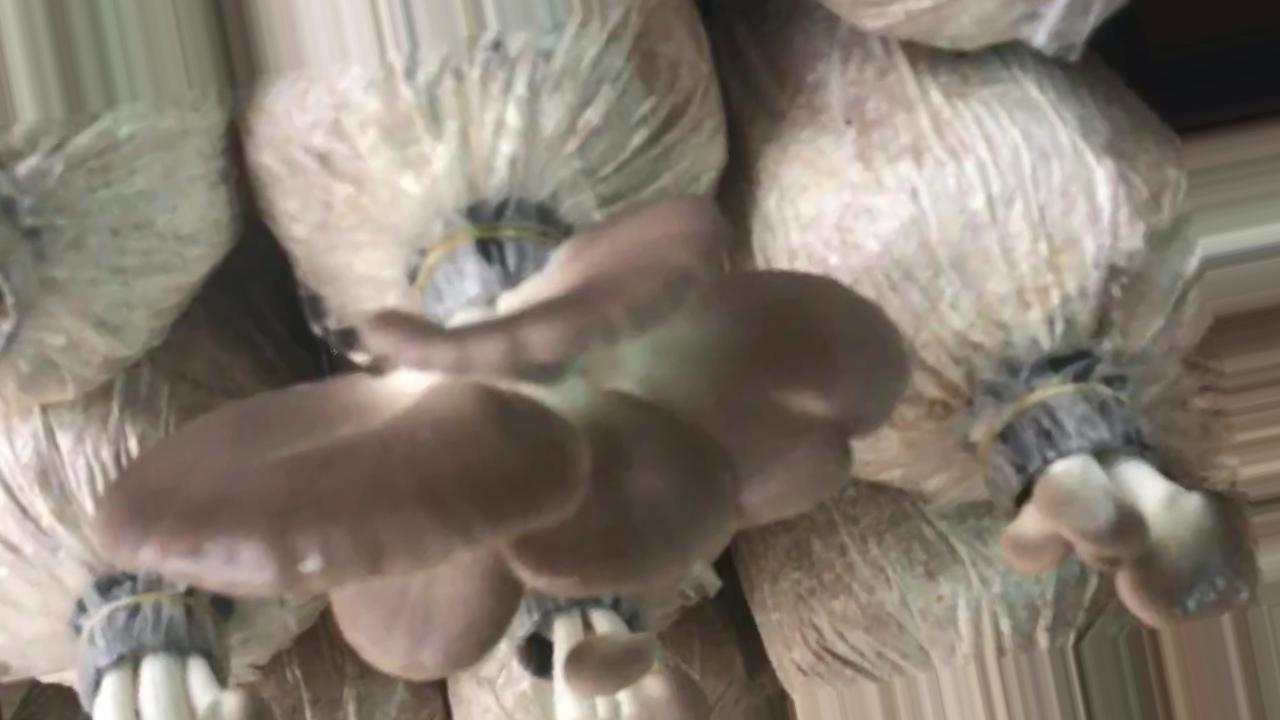nam: (88, 193, 916, 685), (995, 352, 1264, 632), (510, 593, 732, 720)
